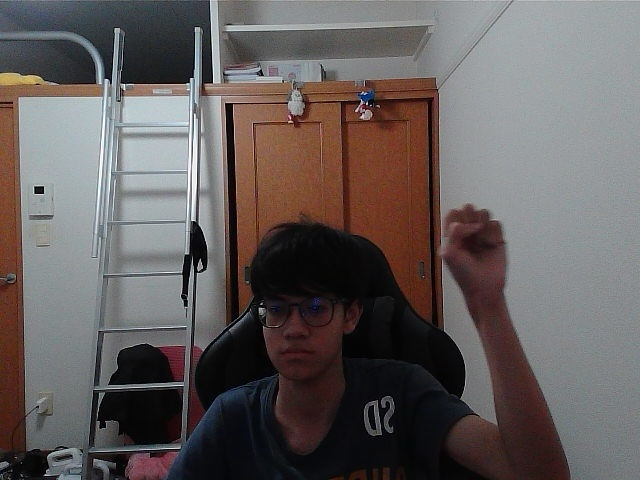closed_palm: (449, 209, 496, 288)
